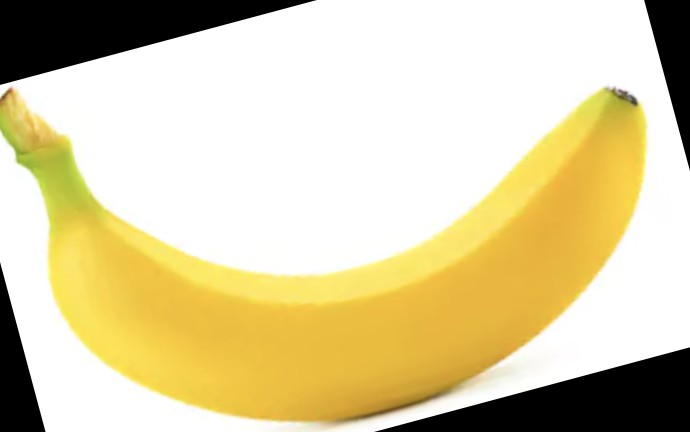fresh_banana: (1, 88, 646, 422)
